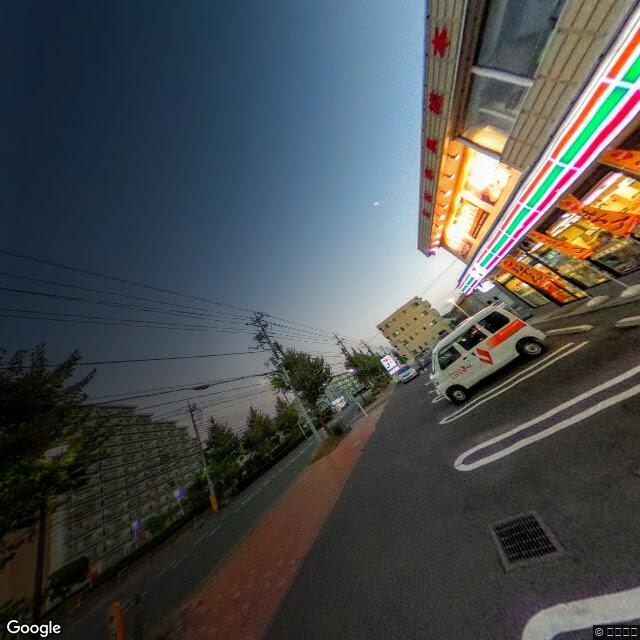7-eleven: (457, 10, 639, 303)
